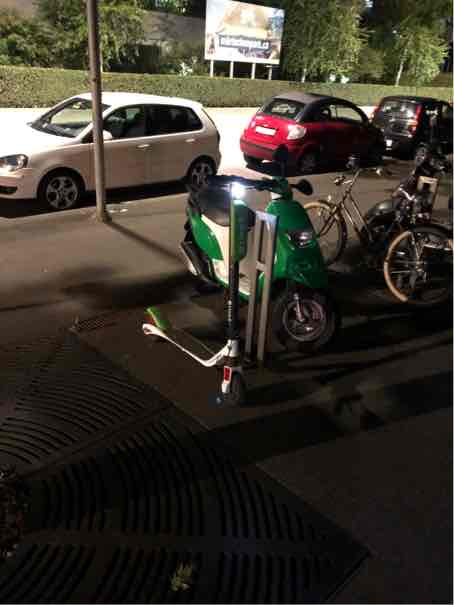scooter: (131, 151, 277, 422)
